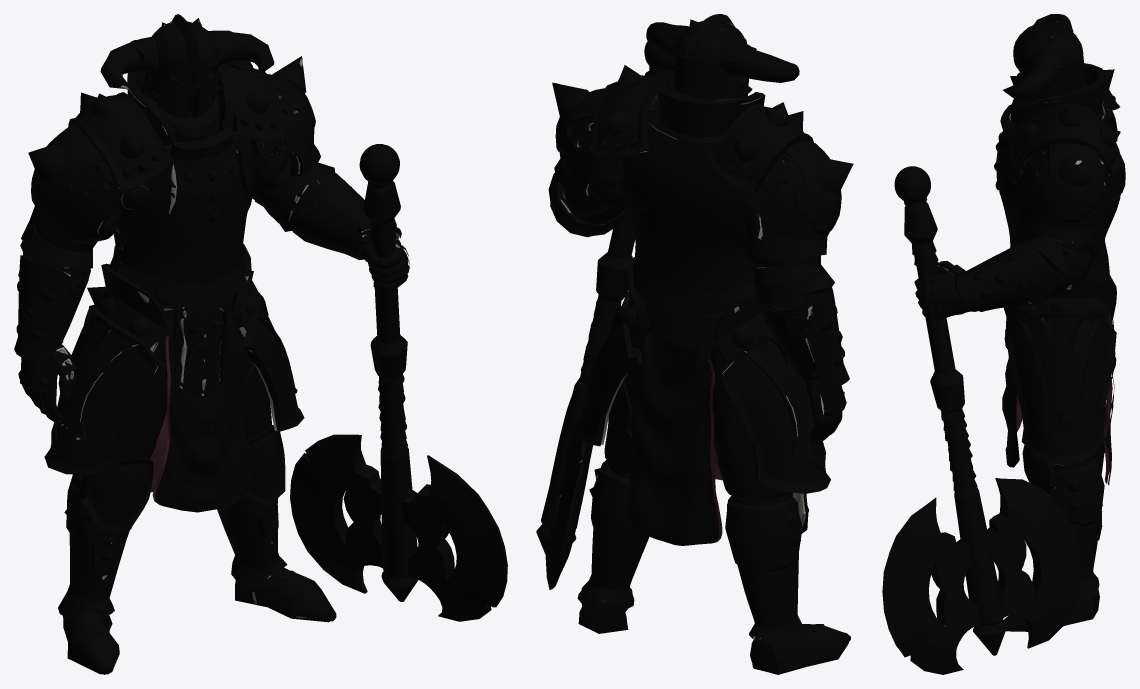
File: knight.glb
3 views of the same model, side by side, from view 1: azimuth 30°, elevation 25°; view 2: azimuth 150°, elevation 25°; view 3: azimuth 270°, elevation 25° (orthographic). The views are drawn at different scales.
Parts seen in each view (by area): view 1: pasted__Armour_LP, pasted__Axe_LP, Armour_LP; view 2: pasted__Armour_LP, pasted__Axe_LP, Armour_LP; view 3: pasted__Armour_LP, pasted__Axe_LP, Armour_LP.
Boxes of the visible parts, bbox=[...] form: pasted__Armour_LP: bbox=[14, 14, 409, 674]; pasted__Axe_LP: bbox=[290, 144, 507, 621]; Armour_LP: bbox=[54, 20, 401, 618]; pasted__Armour_LP: bbox=[548, 14, 853, 674]; pasted__Axe_LP: bbox=[536, 41, 674, 589]; Armour_LP: bbox=[554, 23, 824, 639]; pasted__Armour_LP: bbox=[914, 14, 1125, 631]; pasted__Axe_LP: bbox=[882, 166, 1081, 674]; Armour_LP: bbox=[927, 21, 1112, 489].
Bounding box in the file's own units: 0.0472 × 0.0717 × 0.0284.
5 materials, 3 textured.
